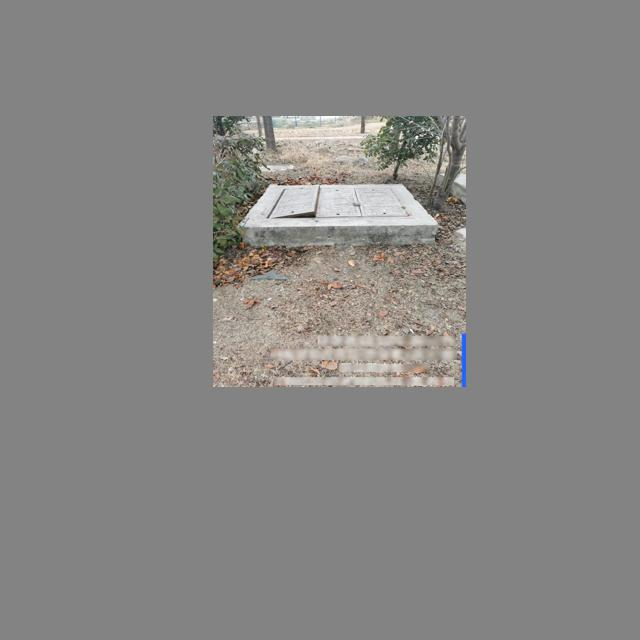uncovered: (260, 178, 412, 223)
